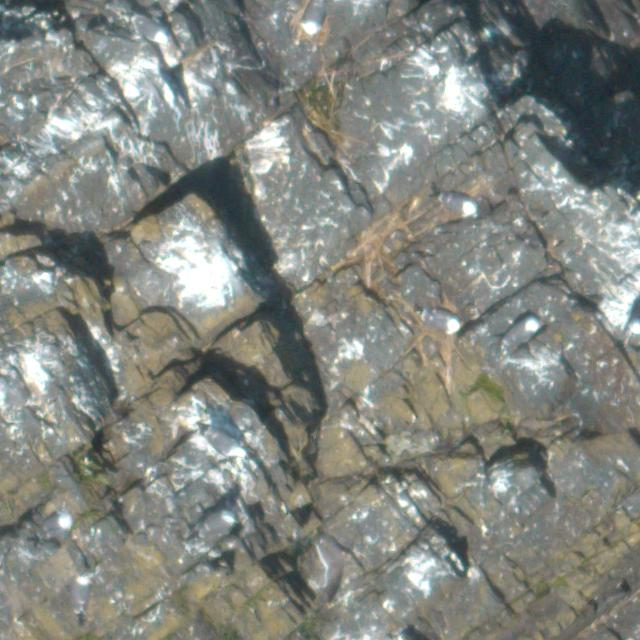umineko: (202, 422, 249, 457), (132, 13, 169, 44), (439, 192, 479, 218), (505, 316, 539, 342), (427, 309, 459, 332), (197, 511, 233, 531), (304, 1, 324, 32), (42, 514, 70, 535), (76, 576, 92, 610)
